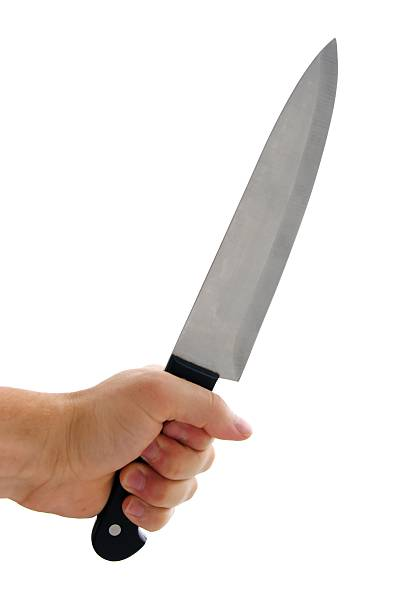knife: (89, 36, 340, 563)
